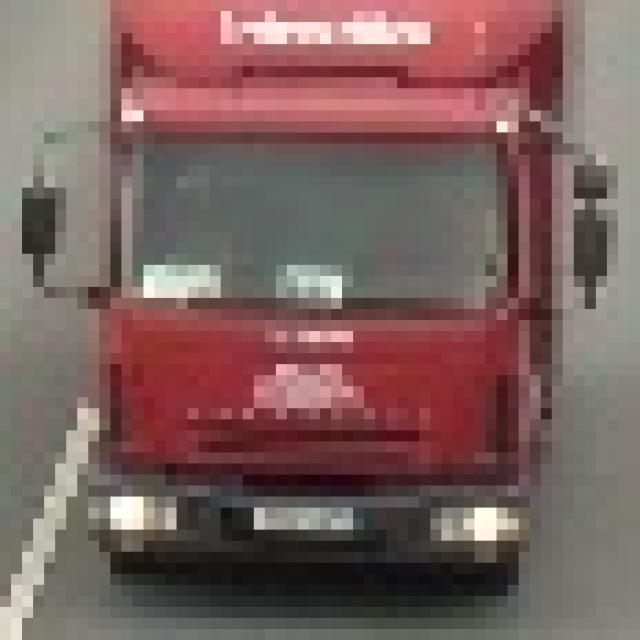truck: (0, 0, 596, 585)
